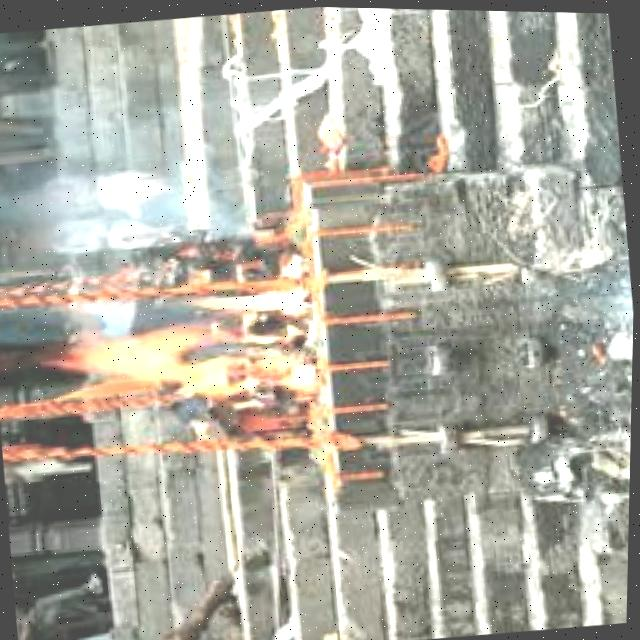Fire: (33, 268, 323, 436)
